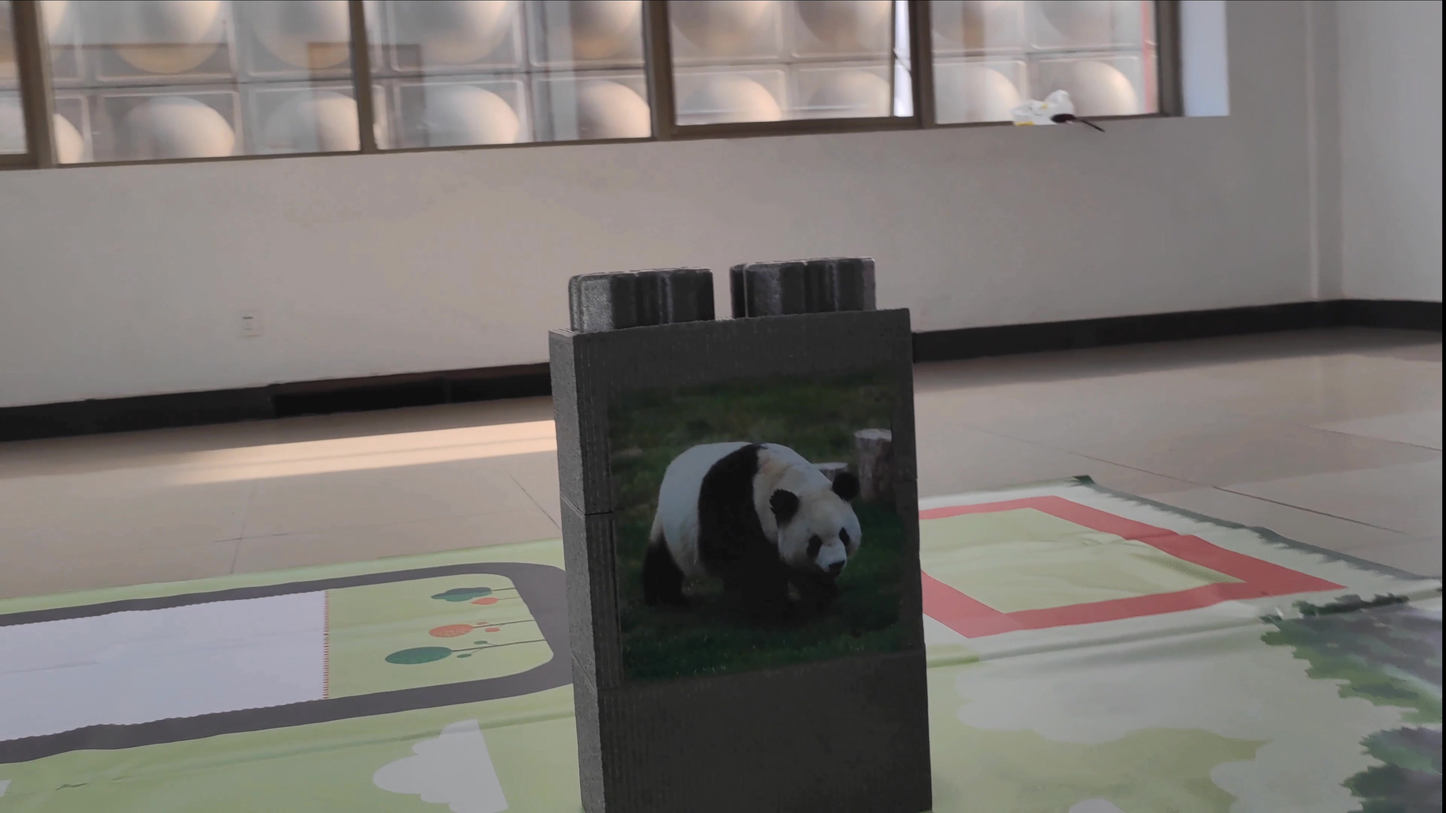panda: (641, 412, 872, 651)
